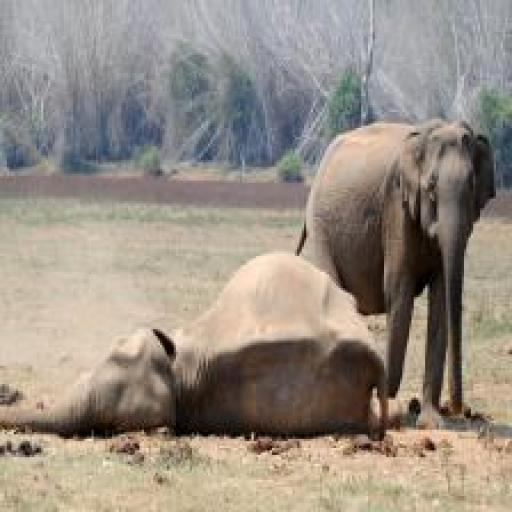Elephant: (0, 252, 388, 437), (295, 118, 495, 428)
